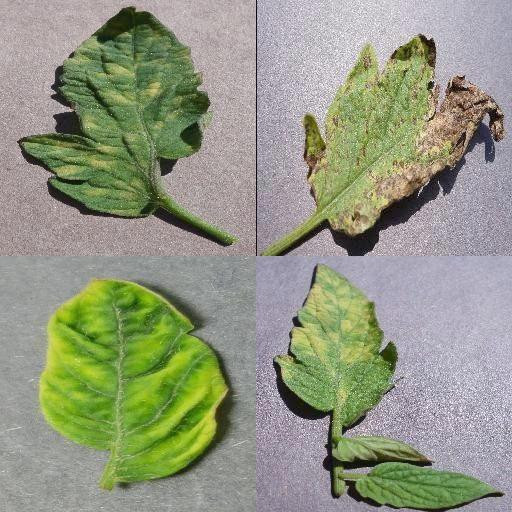Healthy: (357, 463, 506, 512)
Leaf Mold: (20, 5, 212, 219), (274, 260, 407, 428)
Septoria: (303, 34, 505, 236)
Yellow Leaf Curl Virus: (38, 277, 228, 485)
